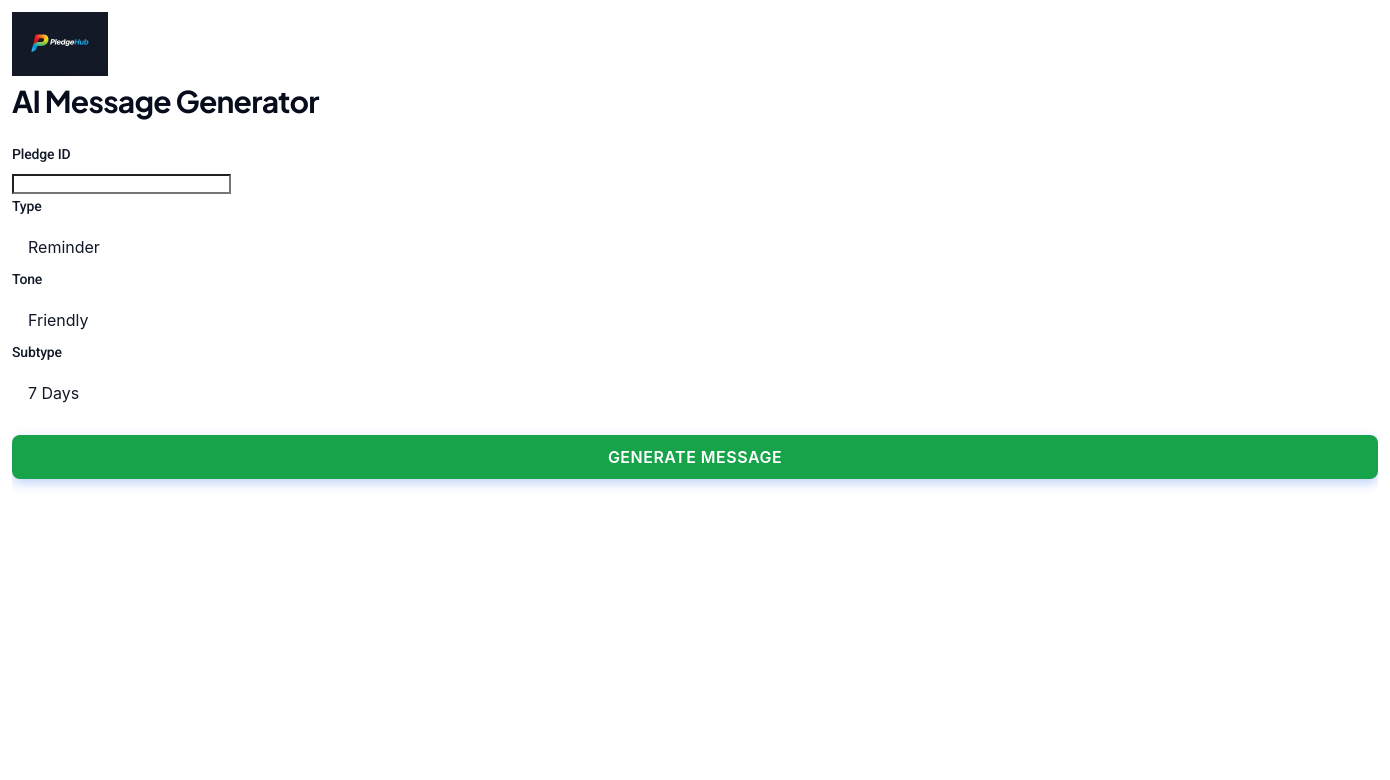
Test: AIMessagingScreen › shows error on API failure
In the field labelled "Pledge ID": x=122, y=184 [12,174,231,194], type "1"
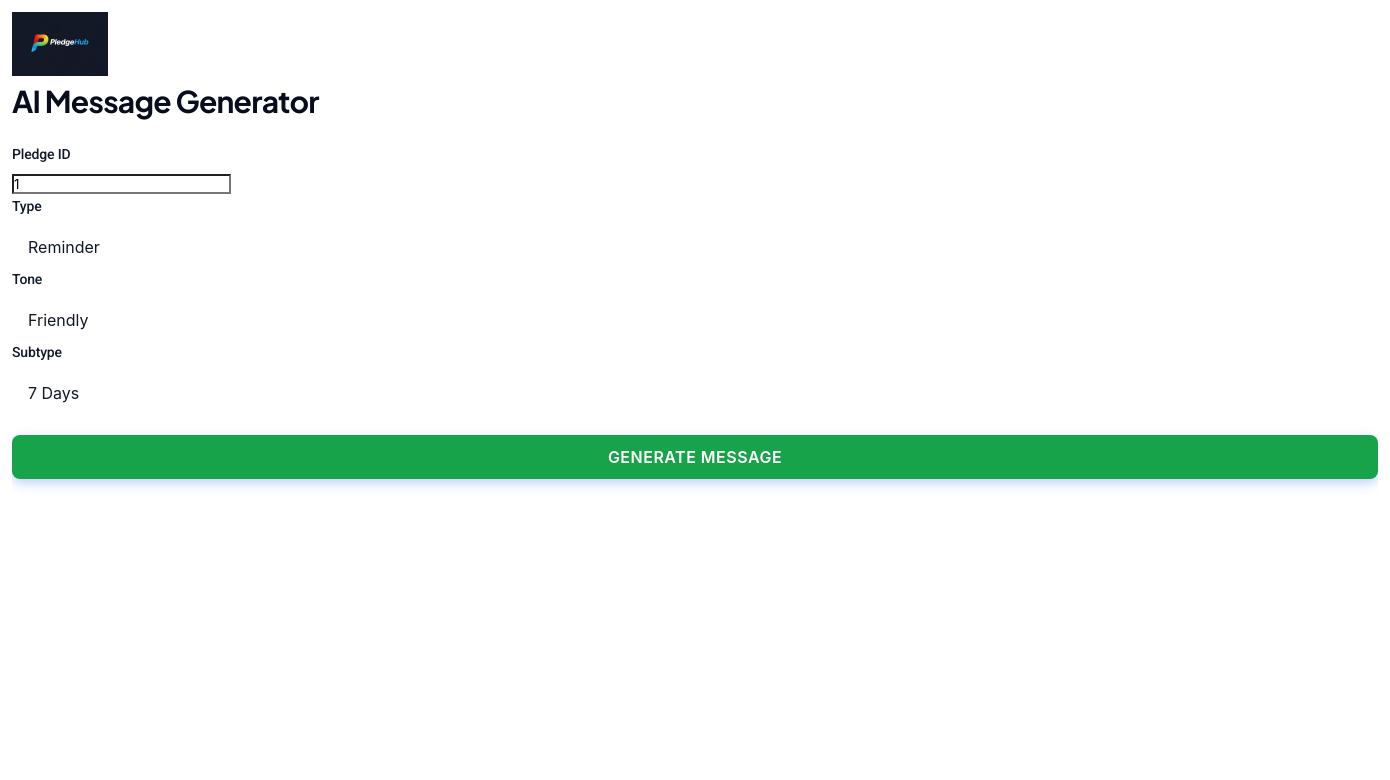
Click the button "Generate Message": x=695, y=456 [12,434,1378,478]
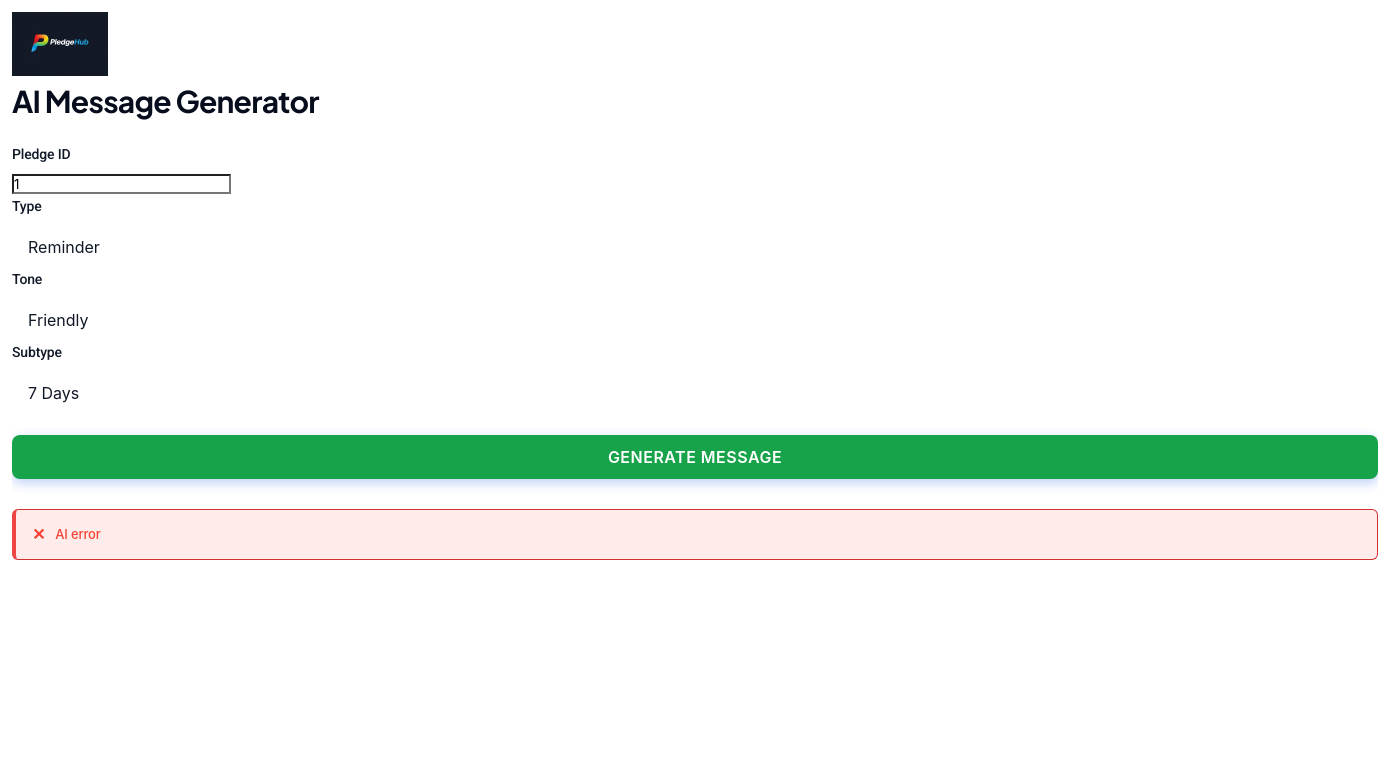
Now the text "AI error" is shown, box [12,508,1378,560]
